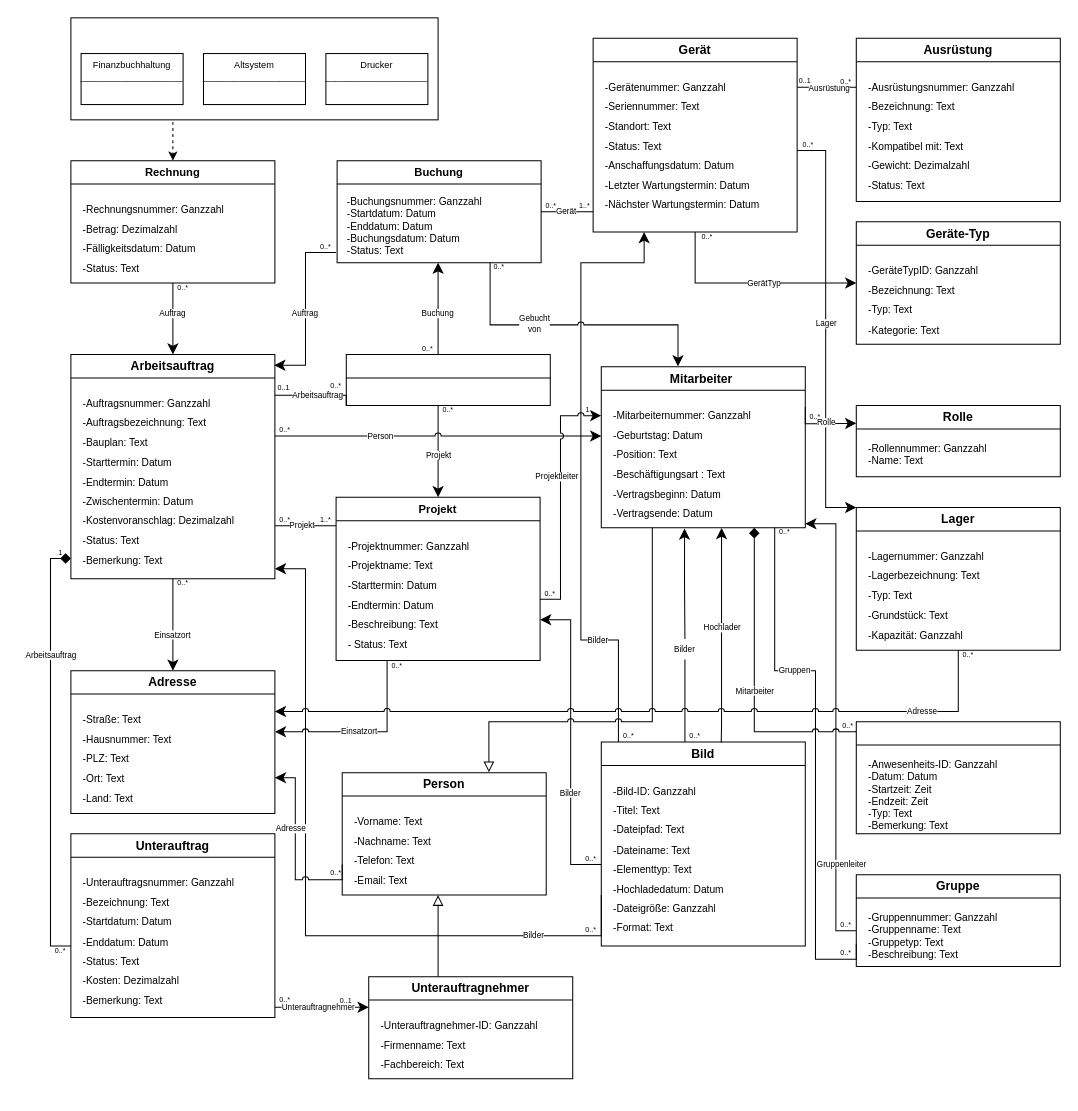
Some shapes in this 1078 by 1111 pixel diagram are drawn without their labels. The shapes that lost their labels are listed below. From the top down, each one's box as (x1, y1, x2, y2) in pixels, then its label:
(70, 17, 438, 120): Externe Systeme
(345, 353, 550, 405): Termin
(855, 721, 1060, 834): Anwesenheitszeit
